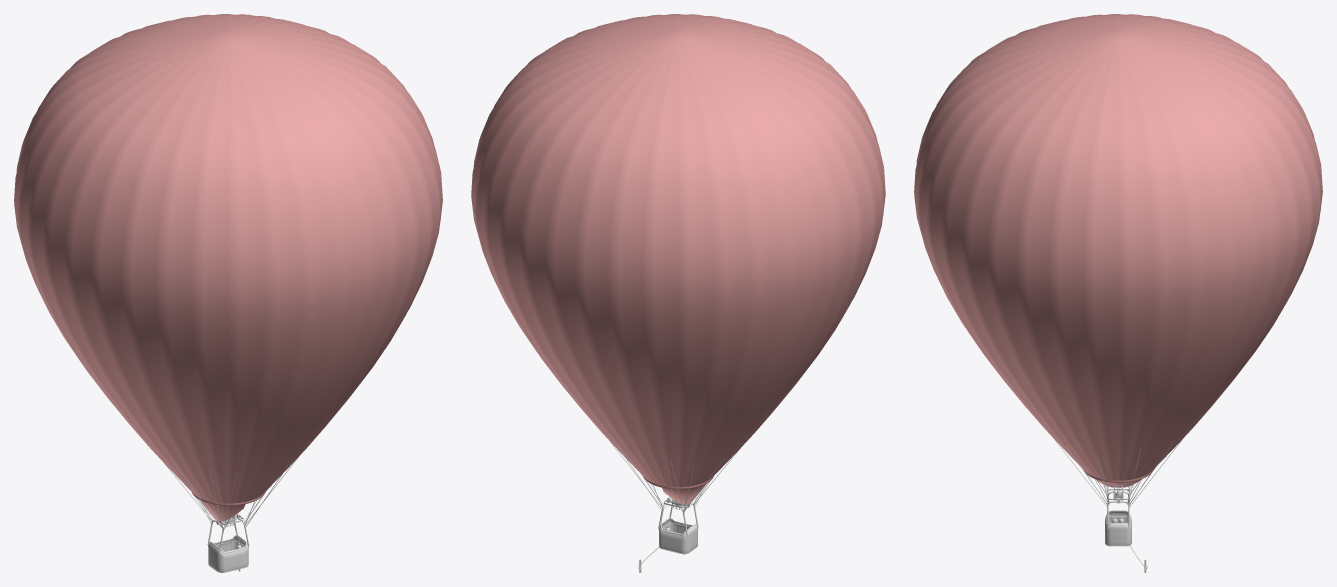
Rendered from Balloon.fbx.
3 renders of one model, left to right at view 1: azimuth 30°, elevation 25°; view 2: azimuth 150°, elevation 25°; view 3: azimuth 270°, elevation 25°, orthographic. The views are drawn at different scales.
Parts seen in each view (by area): view 1: Balloon; view 2: Balloon; view 3: Balloon.
Part boxes in pixels (x1=…): Balloon: x1=14, y1=14, x2=442, y2=572; Balloon: x1=471, y1=14, x2=885, y2=554; Balloon: x1=914, y1=14, x2=1322, y2=546.
Size of the model in its own units: 1749 by 2482 by 1749.
